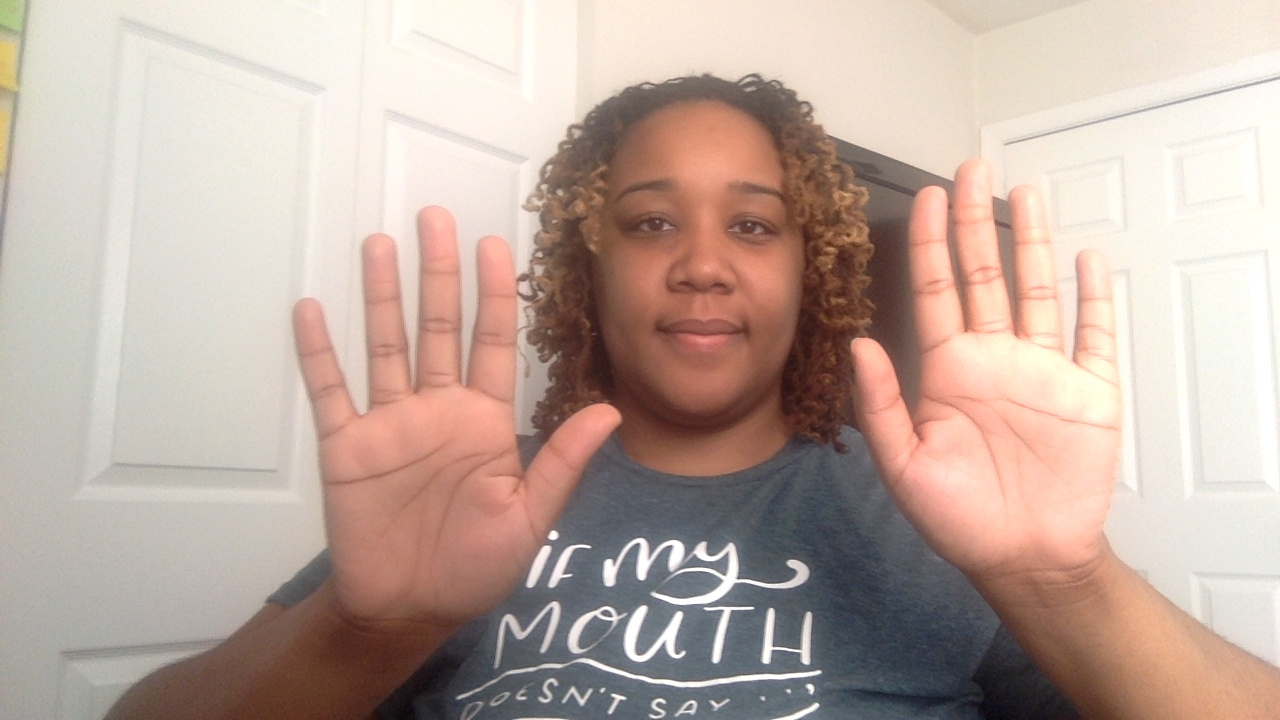great: (292, 70, 1155, 624)
